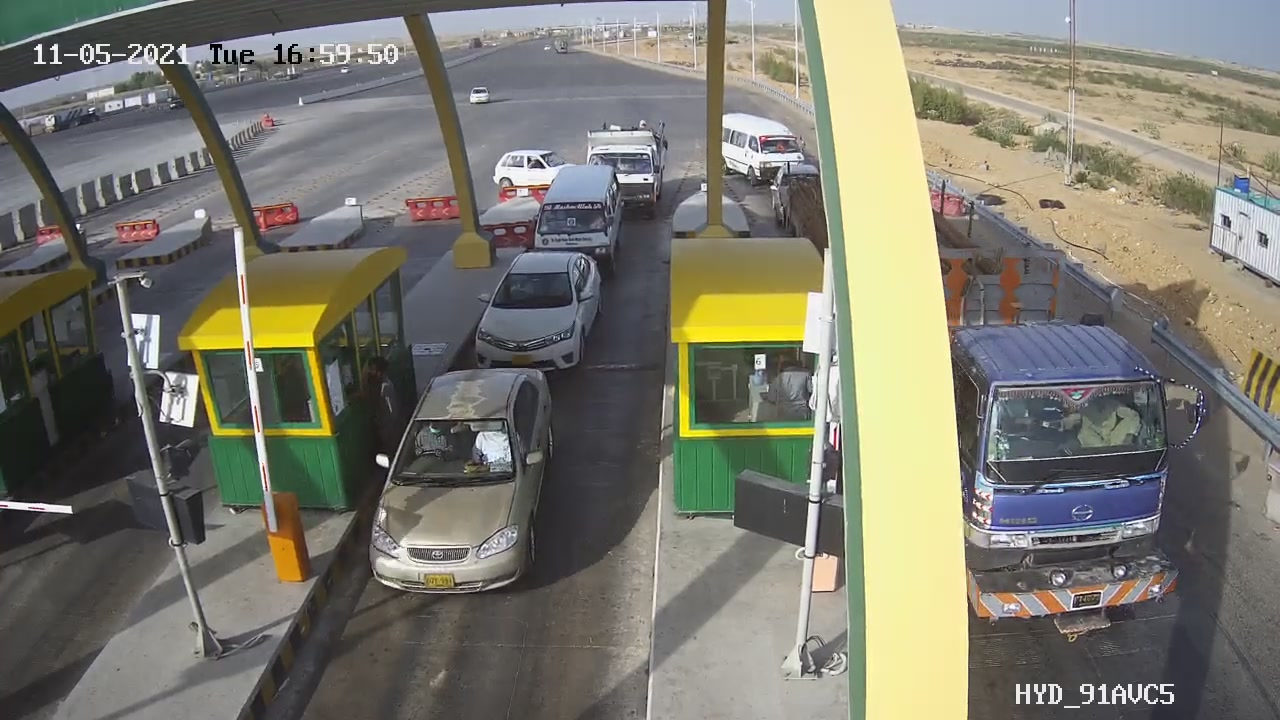F1: (358, 360, 566, 619), (455, 228, 616, 395)
